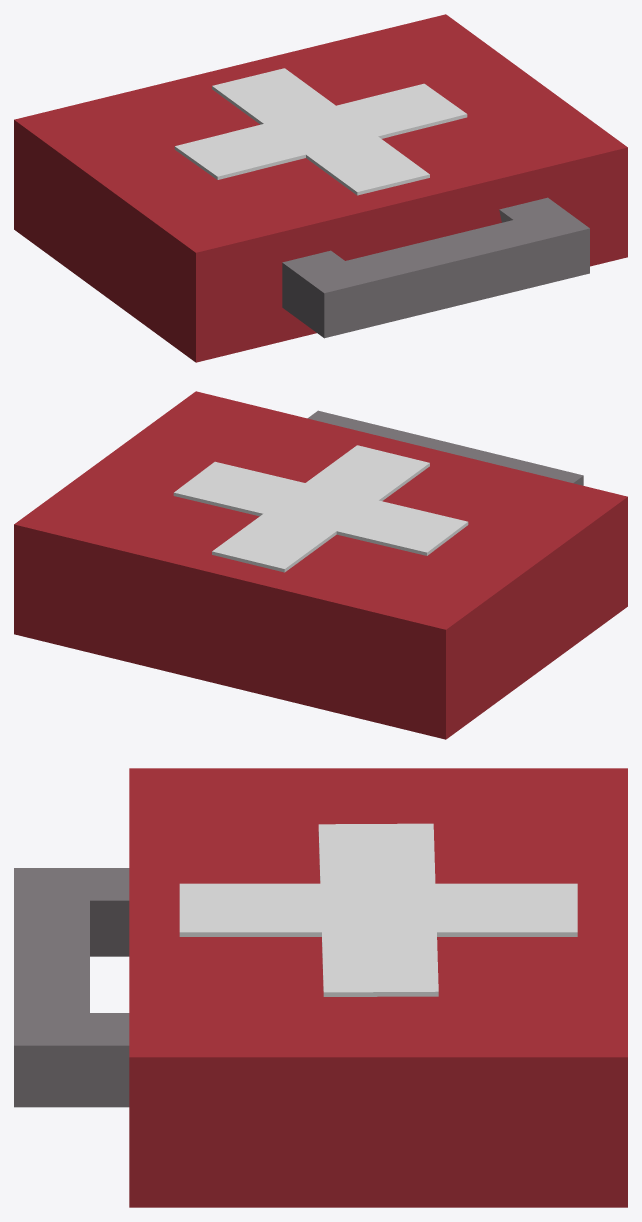
File: botiquin.fbx
3 views of the same model, one above another, from view 1: azimuth 30°, elevation 25°; view 2: azimuth 150°, elevation 25°; view 3: azimuth 270°, elevation 25° (orthographic). The views are drawn at different scales.
Visible parts, largest first — view 1: Cube, Cube.003, Cube.002, Cube.001; view 2: Cube, Cube.002, Cube.001, Cube.003; view 3: Cube, Cube.003, Cube.001, Cube.002.
Boxes of the visible parts, left/top/right/bottom form: Cube: left=14, top=14, right=627, bottom=362; Cube.003: left=282, top=197, right=589, bottom=338; Cube.002: left=174, top=83, right=467, bottom=179; Cube.001: left=212, top=68, right=429, bottom=195; Cube: left=14, top=391, right=627, bottom=739; Cube.002: left=173, top=461, right=468, bottom=555; Cube.001: left=212, top=445, right=429, bottom=572; Cube.003: left=307, top=410, right=583, bottom=485; Cube: left=129, top=768, right=627, bottom=1207; Cube.003: left=14, top=868, right=129, bottom=1107; Cube.001: left=179, top=883, right=577, bottom=936; Cube.002: left=318, top=823, right=438, bottom=996.
Size of the model in its own units: 274 by 68.7 by 246.
